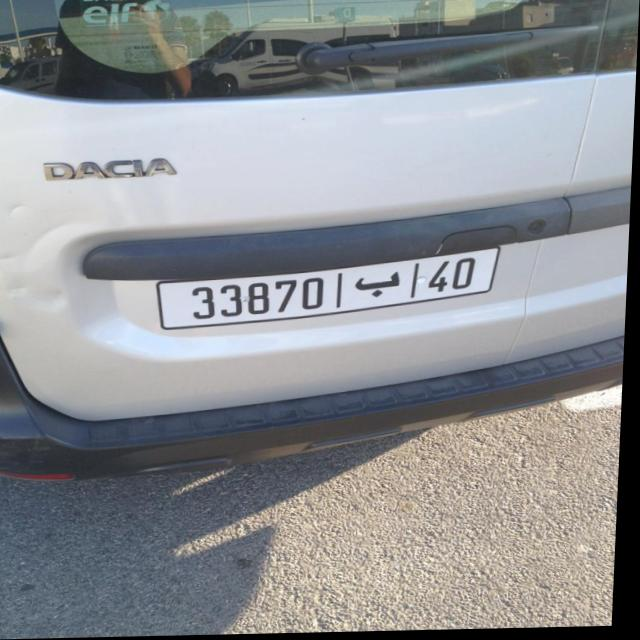License-Plate: (160, 250, 503, 331)
